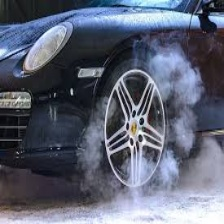smoke: (92, 150, 185, 204), (155, 51, 202, 104)
